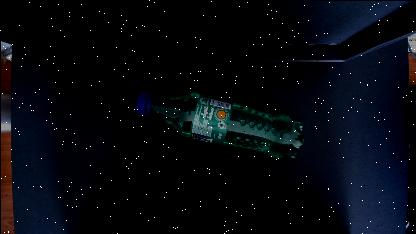Plastic Bottle: (131, 83, 308, 166)
